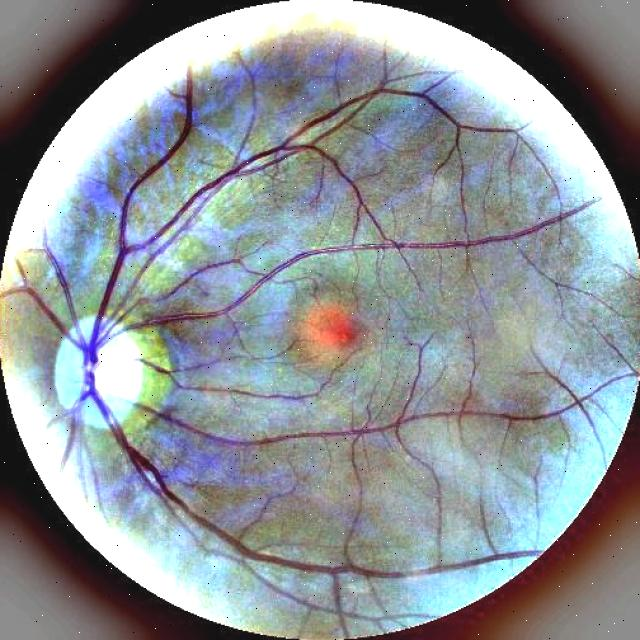Macula: (305, 305, 367, 356)
Nerves: (15, 71, 400, 560), (123, 220, 190, 301), (293, 88, 391, 137), (118, 397, 211, 439), (156, 262, 237, 309), (108, 353, 182, 397)
Optic Disk: (55, 308, 141, 428)
